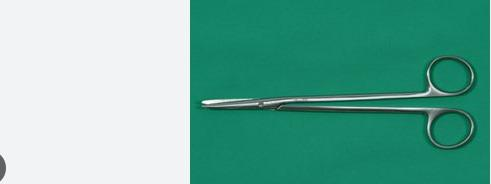Metzenbaum Sciccors: (199, 49, 477, 156)
